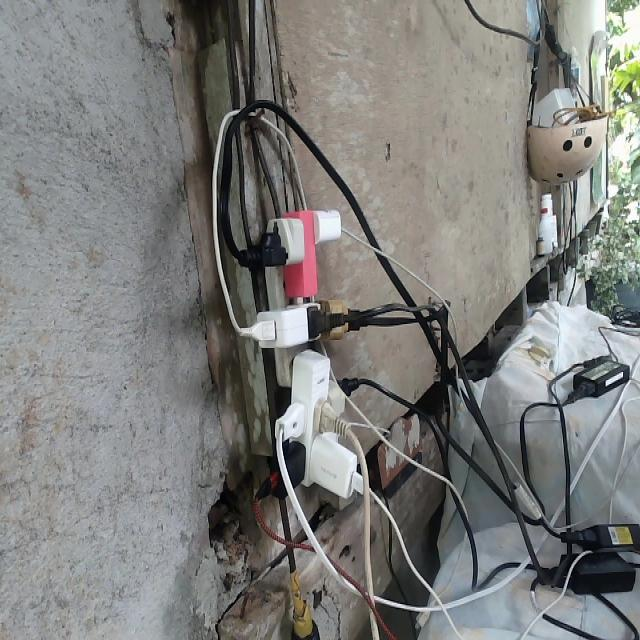-: (235, 204, 370, 501)
